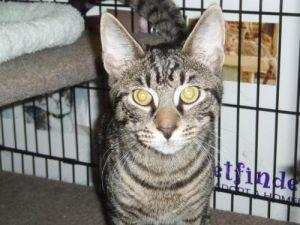bengal: (88, 1, 238, 171)
